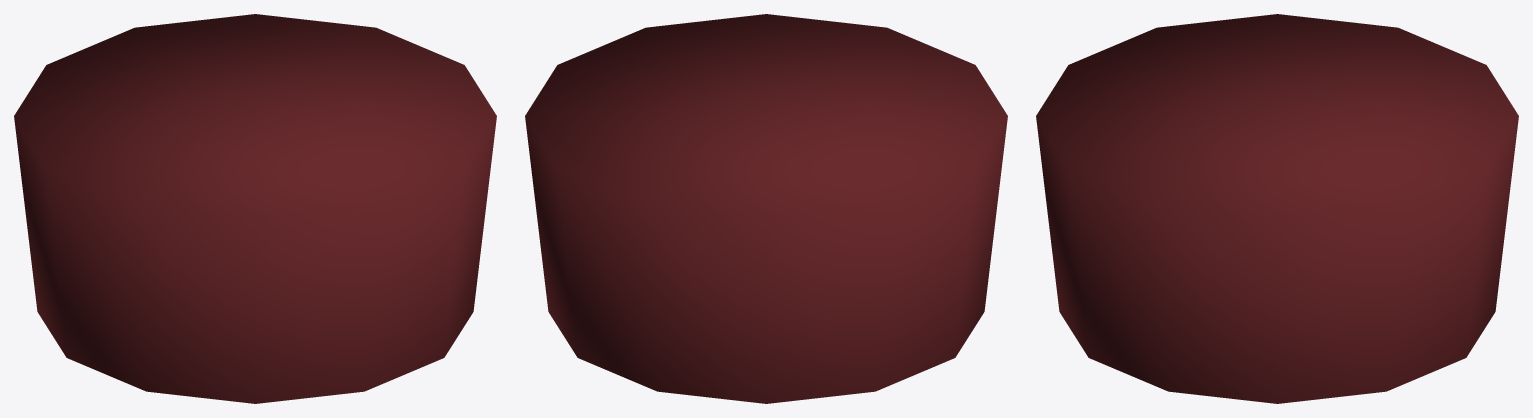
File: copo_dois_bebida.fbx
3 renders of one model, left to right at view 1: azimuth 30°, elevation 25°; view 2: azimuth 150°, elevation 25°; view 3: azimuth 270°, elevation 25°, orthographic.
Visible parts, largest first — view 1: copo_dois_bebida; view 2: copo_dois_bebida; view 3: copo_dois_bebida.
Boxes of the visible parts, x1,y1,x2,y2 form: copo_dois_bebida: [14, 14, 496, 403]; copo_dois_bebida: [525, 14, 1007, 403]; copo_dois_bebida: [1036, 14, 1518, 403].
Size of the model in its own units: 6.2 by 2.77 by 6.2.
